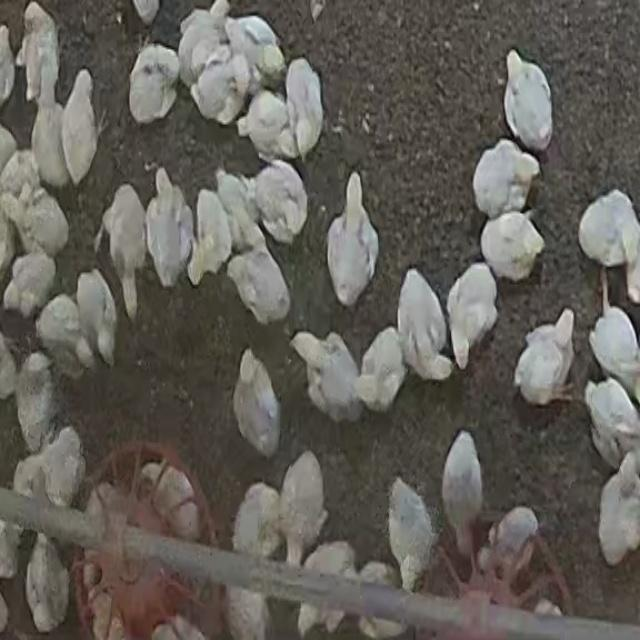chicken: (228, 482, 282, 640), (324, 170, 382, 304), (98, 176, 151, 313), (291, 330, 365, 424), (13, 427, 87, 517), (578, 189, 640, 296), (515, 308, 577, 408), (397, 269, 452, 381), (28, 46, 70, 190), (144, 170, 192, 292), (588, 290, 638, 404), (298, 540, 356, 638), (277, 450, 326, 566), (387, 476, 435, 590), (446, 266, 500, 366), (232, 346, 280, 458), (471, 140, 538, 219), (442, 430, 483, 559), (0, 186, 72, 259), (226, 246, 290, 328), (503, 48, 552, 152), (35, 292, 92, 379), (596, 455, 640, 565), (60, 67, 100, 185), (585, 381, 639, 468), (11, 352, 58, 451), (146, 459, 202, 542), (252, 159, 306, 243), (176, 2, 229, 86), (75, 270, 119, 370), (224, 10, 281, 87), (191, 187, 235, 286), (356, 328, 406, 415), (481, 212, 543, 282), (213, 169, 263, 254), (17, 3, 59, 104), (128, 44, 180, 124), (25, 538, 69, 632), (192, 52, 247, 126), (285, 59, 325, 160), (488, 498, 533, 587), (3, 250, 56, 322), (84, 474, 117, 585), (91, 590, 129, 640)
